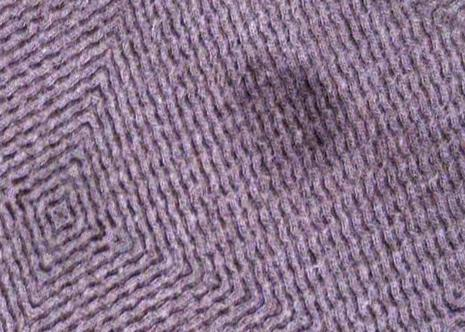stain: (225, 62, 347, 176)
